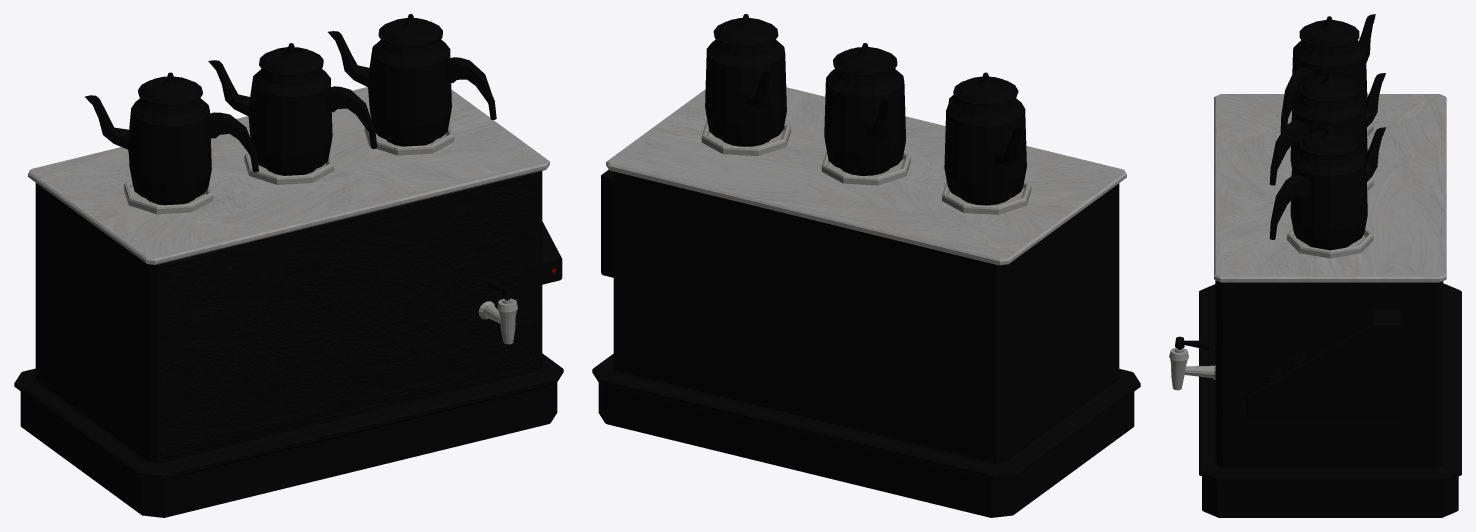
File: TeaMachine.fbx
3 renders of one model, left to right at view 1: azimuth 30°, elevation 25°; view 2: azimuth 150°, elevation 25°; view 3: azimuth 270°, elevation 25°, orthographic. The views are drawn at different scales.
Parts seen in each view (by area): view 1: Receptacle, ReceptacleFace, Kettle_1, Kettle_3, Kettle_2, KettleBase_1, Tap, KettleBase_2, KettleBase_3; view 2: Receptacle, Kettle_1, Kettle_3, Kettle_2, KettleBase_2, KettleBase_3, KettleBase_1; view 3: Receptacle, Kettle_3, Kettle_2, Kettle_1, KettleBase_3, Tap, ReceptacleFace.
Boxes of the visible parts, <box> form: Receptacle: <box>14,87,563,517</box>; ReceptacleFace: <box>157,171,541,463</box>; Kettle_1: <box>85,72,258,205</box>; Kettle_3: <box>328,14,496,146</box>; Kettle_2: <box>208,43,377,175</box>; KettleBase_1: <box>124,180,213,214</box>; Tap: <box>478,298,517,344</box>; KettleBase_2: <box>244,153,333,184</box>; KettleBase_3: <box>364,122,454,155</box>; Receptacle: <box>592,87,1140,517</box>; Kettle_1: <box>944,72,1026,205</box>; Kettle_3: <box>705,14,786,146</box>; Kettle_2: <box>824,43,905,175</box>; KettleBase_2: <box>821,151,910,185</box>; KettleBase_3: <box>701,121,790,156</box>; KettleBase_1: <box>942,181,1031,214</box>; Receptacle: <box>1199,94,1461,517</box>; Kettle_3: <box>1269,126,1385,250</box>; Kettle_2: <box>1269,71,1385,185</box>; Kettle_1: <box>1280,14,1375,132</box>; KettleBase_3: <box>1287,227,1373,258</box>; Tap: <box>1169,347,1215,390</box>; ReceptacleFace: <box>1215,280,1217,461</box>.
Bounding box in the file's own units: 149 × 121 × 91.33.
Materials: 7 (1 with a texture image).
